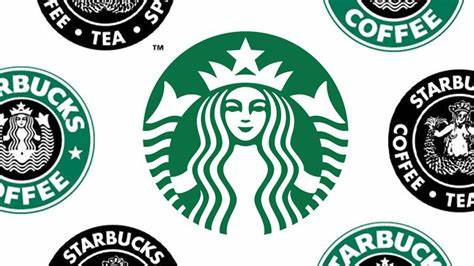starbucks Originale: (133, 31, 359, 242)
